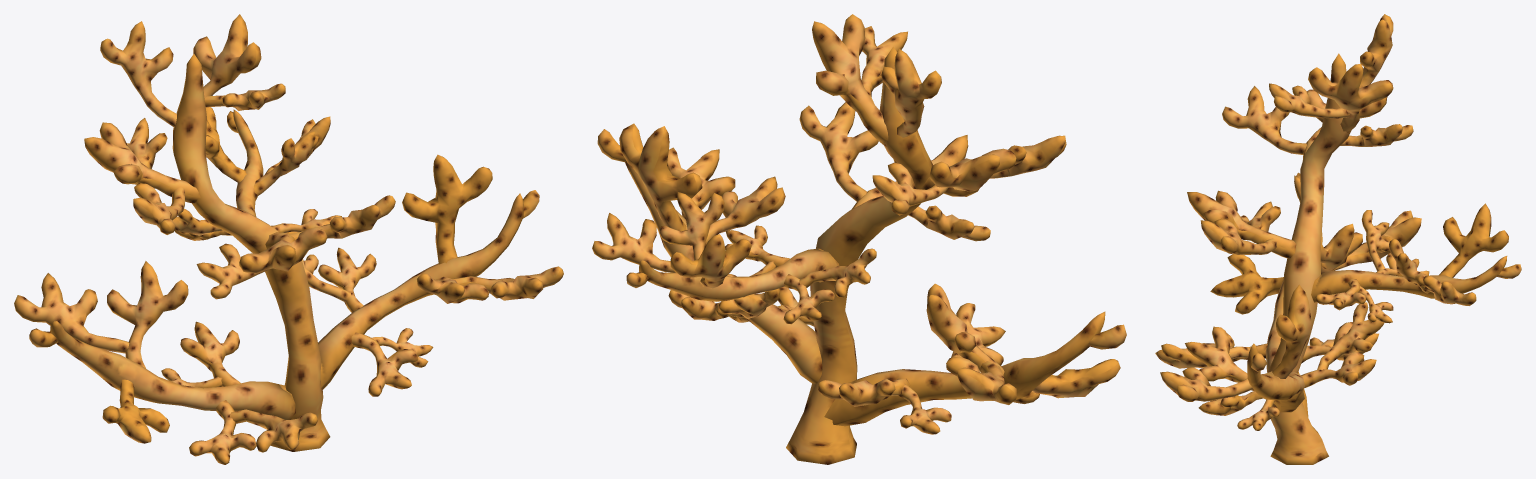
The model's file is Cartoon Seaweed_10_2.FBX.
The picture shows the model from 3 angles, left to right: view 1: azimuth 30°, elevation 25°; view 2: azimuth 150°, elevation 25°; view 3: azimuth 270°, elevation 25°; orthographic projection. The views are drawn at different scales.
Parts seen in each view (by area): view 1: Cartoon Seaweed 10.2; view 2: Cartoon Seaweed 10.2; view 3: Cartoon Seaweed 10.2.
Part boxes in pixels (x1,y1,x2,y2): Cartoon Seaweed 10.2: (14, 14, 563, 464); Cartoon Seaweed 10.2: (592, 14, 1126, 464); Cartoon Seaweed 10.2: (1155, 14, 1521, 464).
Size of the model in its own units: 23.31 by 19.21 by 16.37.
